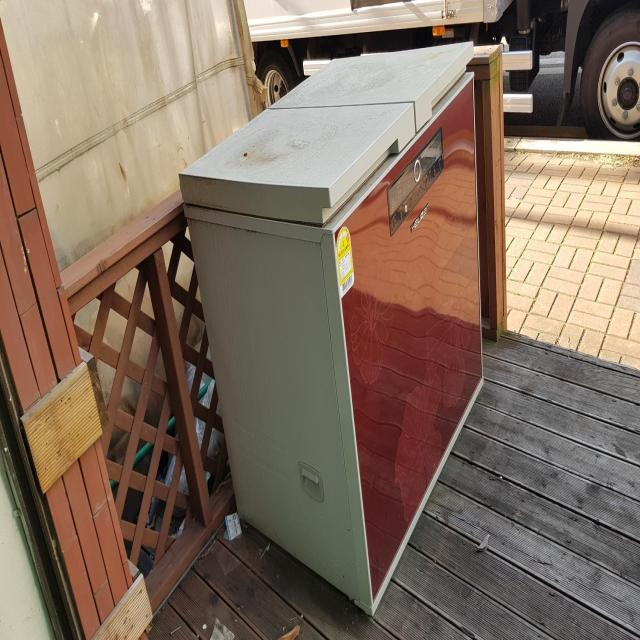refrigerator: (175, 34, 488, 624)
